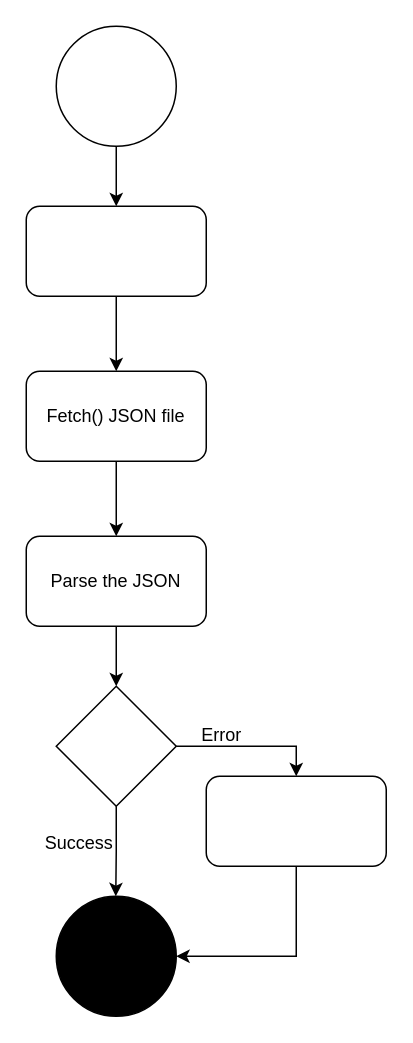
This 413x1043 diagram has some shape labels left out. The centre of each missing label's shape, as x and y in pixels:
Clear Console: [115,250]
Output error on console: [295,820]
